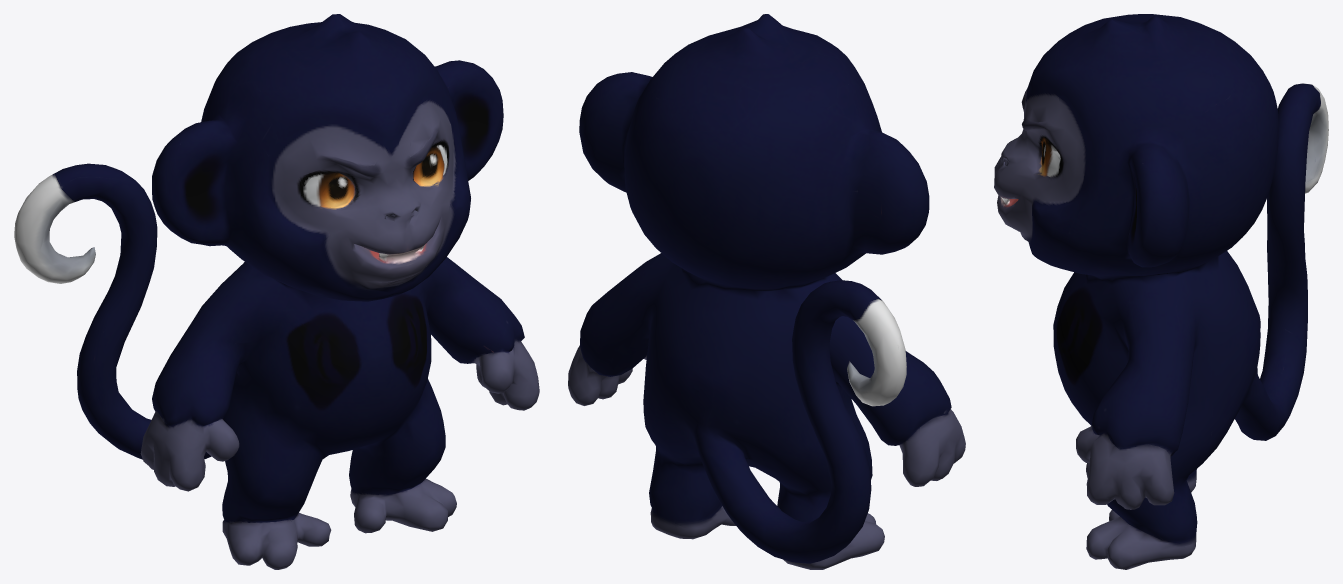
File: howlshade.glb
The picture shows the model from 3 angles, left to right: view 1: azimuth 30°, elevation 25°; view 2: azimuth 150°, elevation 25°; view 3: azimuth 270°, elevation 25°; orthographic projection.
Visible parts, largest first — view 1: world; view 2: world; view 3: world.
Part boxes in pixels (left/top/right/bottom): world: left=14, top=14, right=539, bottom=569; world: left=568, top=14, right=965, bottom=569; world: left=994, top=14, right=1328, bottom=569.
Bounding box in the file's own units: 0.8504 × 0.9993 × 0.5955.
1 material, 1 textured.
